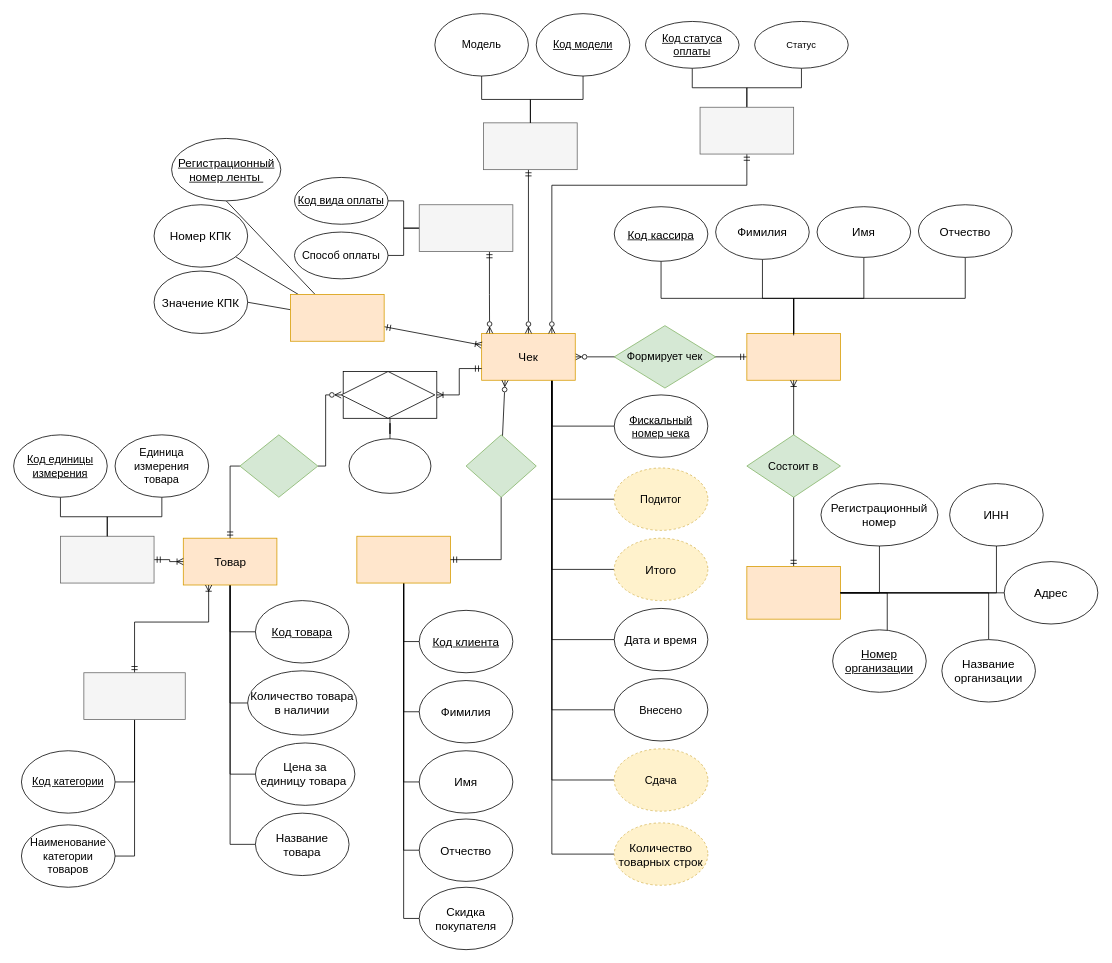
Some shapes in this 1112 by 963 pixel diagram are drawn without their labels. Each missing label, with the box of its shape:
Вид оплаты: (418, 204, 513, 252)
Единицы измерения: (60, 535, 154, 583)
Кассир: (746, 333, 840, 380)
Кассовый аппарат: (483, 122, 577, 170)
Категории: (83, 672, 185, 720)
Количество товара: (348, 438, 431, 493)
Организация: (746, 566, 840, 619)
Покупает товары: (465, 434, 536, 497)
Покупатель: (356, 535, 450, 583)
Состоит: (239, 434, 318, 497)
Статус оплаты: (699, 106, 794, 154)
ЭКЛЗ лента: (290, 294, 384, 341)
